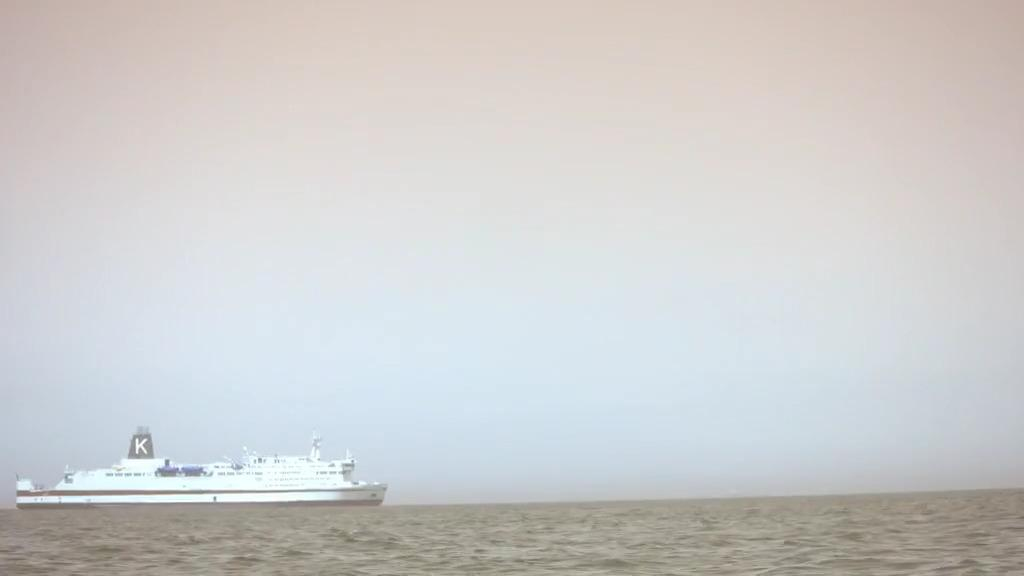PassengerShip: (5, 426, 395, 518)
